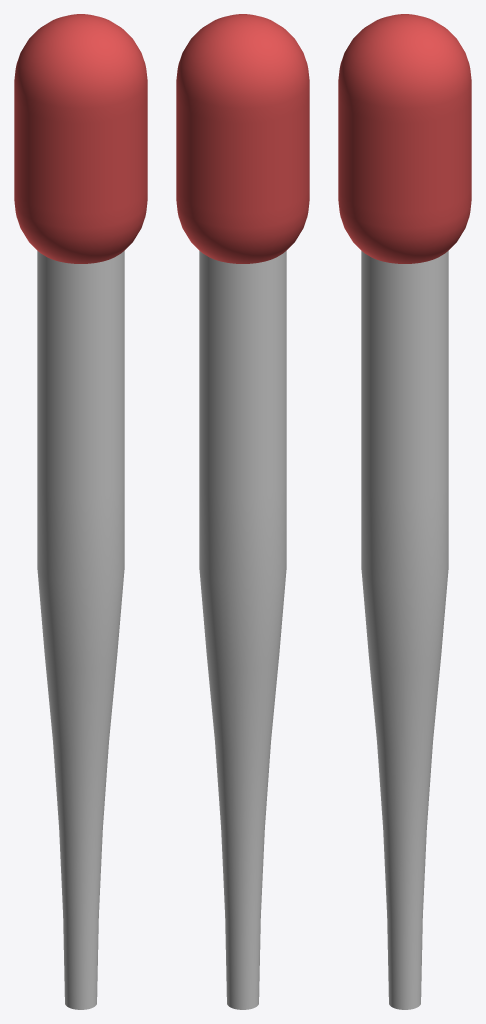
3 renders of one model, left to right at view 1: azimuth 90°, elevation 25°; view 2: azimuth 150°, elevation 25°; view 3: azimuth 270°, elevation 25°, orthographic.
Visible parts, largest first — view 1: head; view 2: head; view 3: head.
Part boxes in pixels (x1,y1,x2,y2): head: (14,14,147,1009); head: (176,14,309,1009); head: (338,14,471,1009).
Size of the model in its own units: 43.91 by 357 by 43.91.
